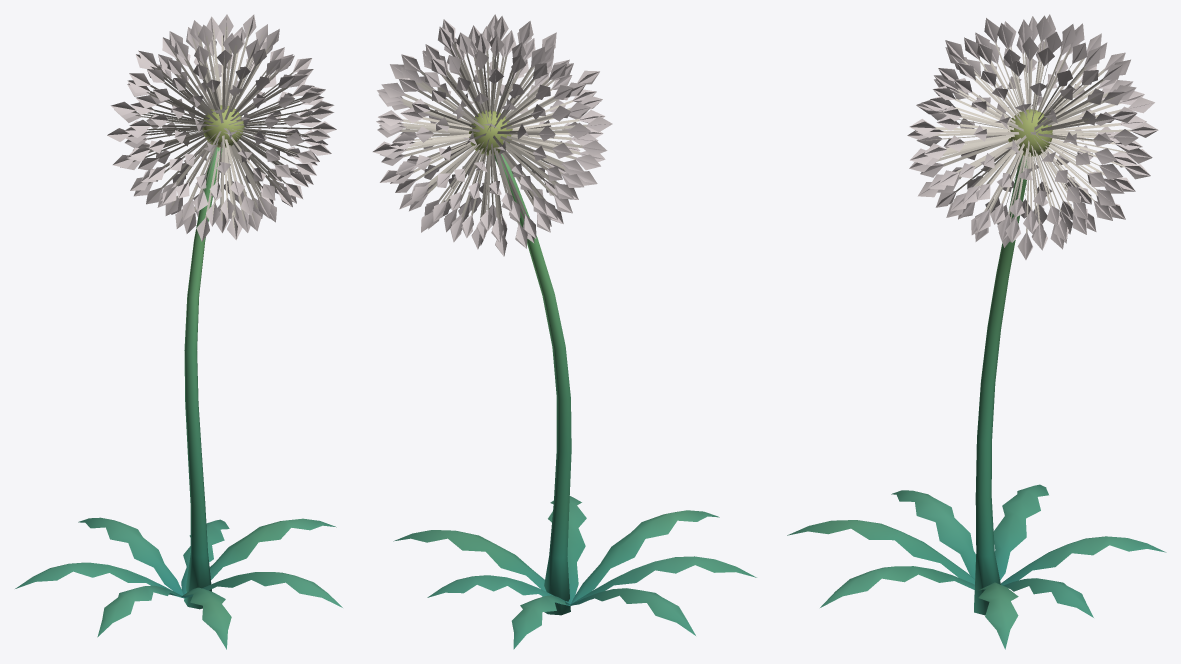
The model's file is verdant_tree_dandelion_a.glb.
The picture shows the model from 3 angles, left to right: view 1: azimuth 30°, elevation 25°; view 2: azimuth 150°, elevation 25°; view 3: azimuth 270°, elevation 25°; orthographic projection. The views are drawn at different scales.
Parts seen in each view (by area): view 1: verdant_tree_dandelion_a; view 2: verdant_tree_dandelion_a; view 3: verdant_tree_dandelion_a.
Part boxes in pixels (x1=…): verdant_tree_dandelion_a: x1=15, y1=14, x2=342, y2=649; verdant_tree_dandelion_a: x1=372, y1=14, x2=756, y2=649; verdant_tree_dandelion_a: x1=787, y1=14, x2=1166, y2=649.
Size of the model in its own units: 3.81 by 6.61 by 3.74.
